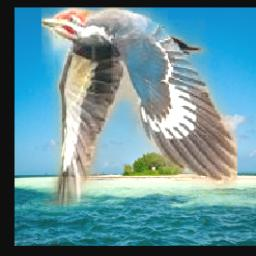Woodpecker: (42, 7, 238, 206)
